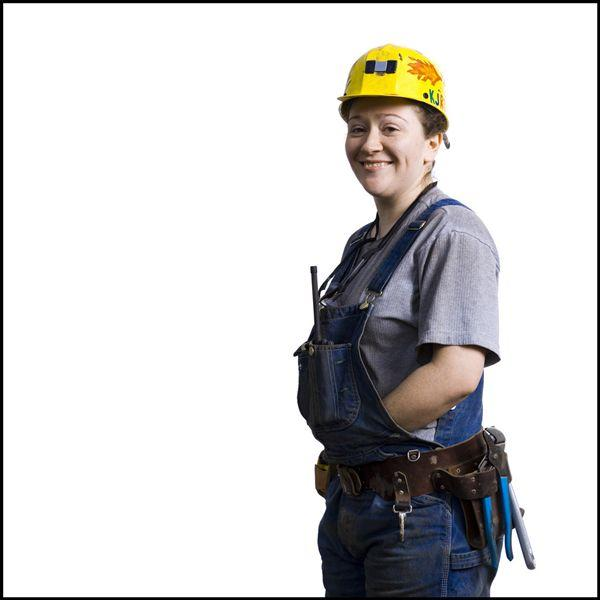helmet: (336, 45, 455, 128)
